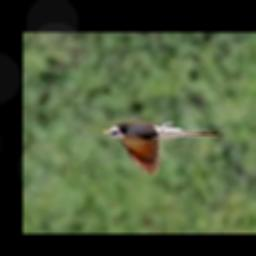Cuckoo: (101, 122, 223, 176)
